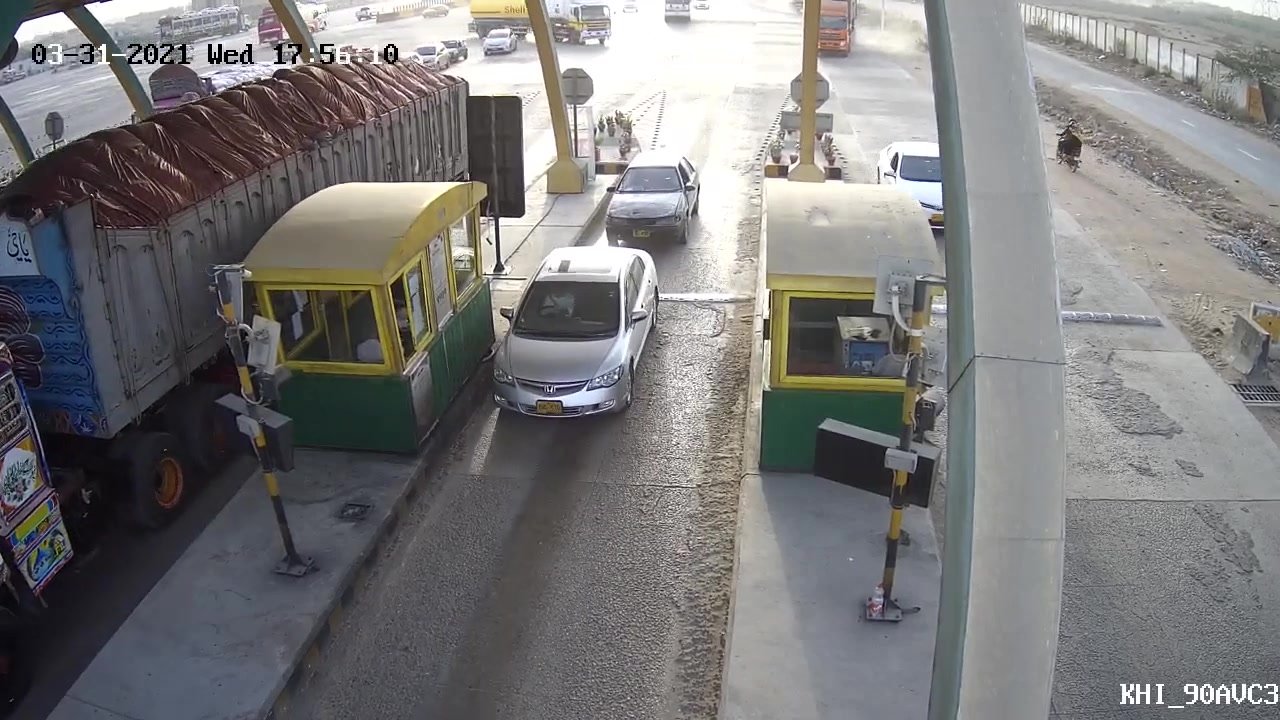F1: (487, 246, 662, 421), (603, 147, 699, 247)
